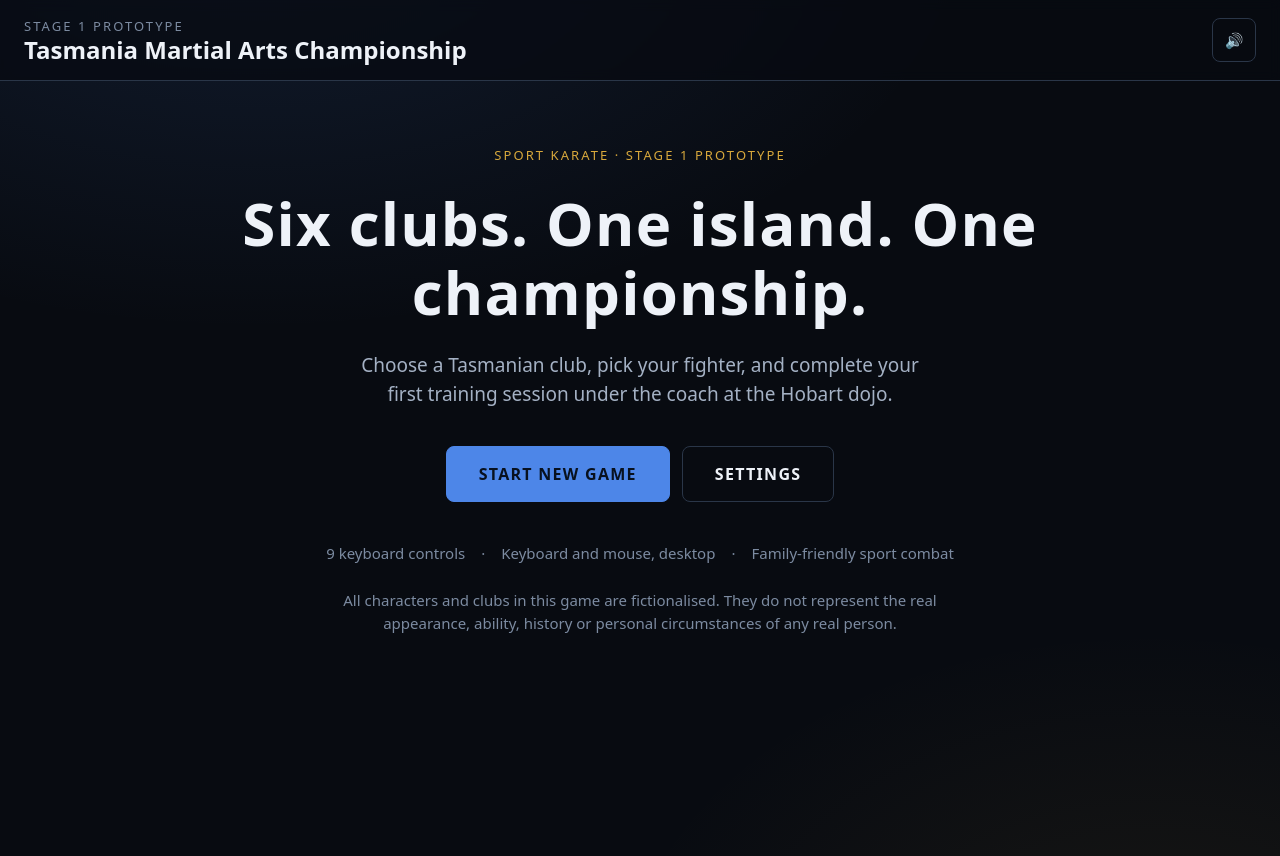
Test: map screen › marks the featured club and labels the others as Stage 2
The width and height of the screenshot is (1280, 856).
Click the button with test id "start-game". click: (558,474)
box: [446,446,670,502]
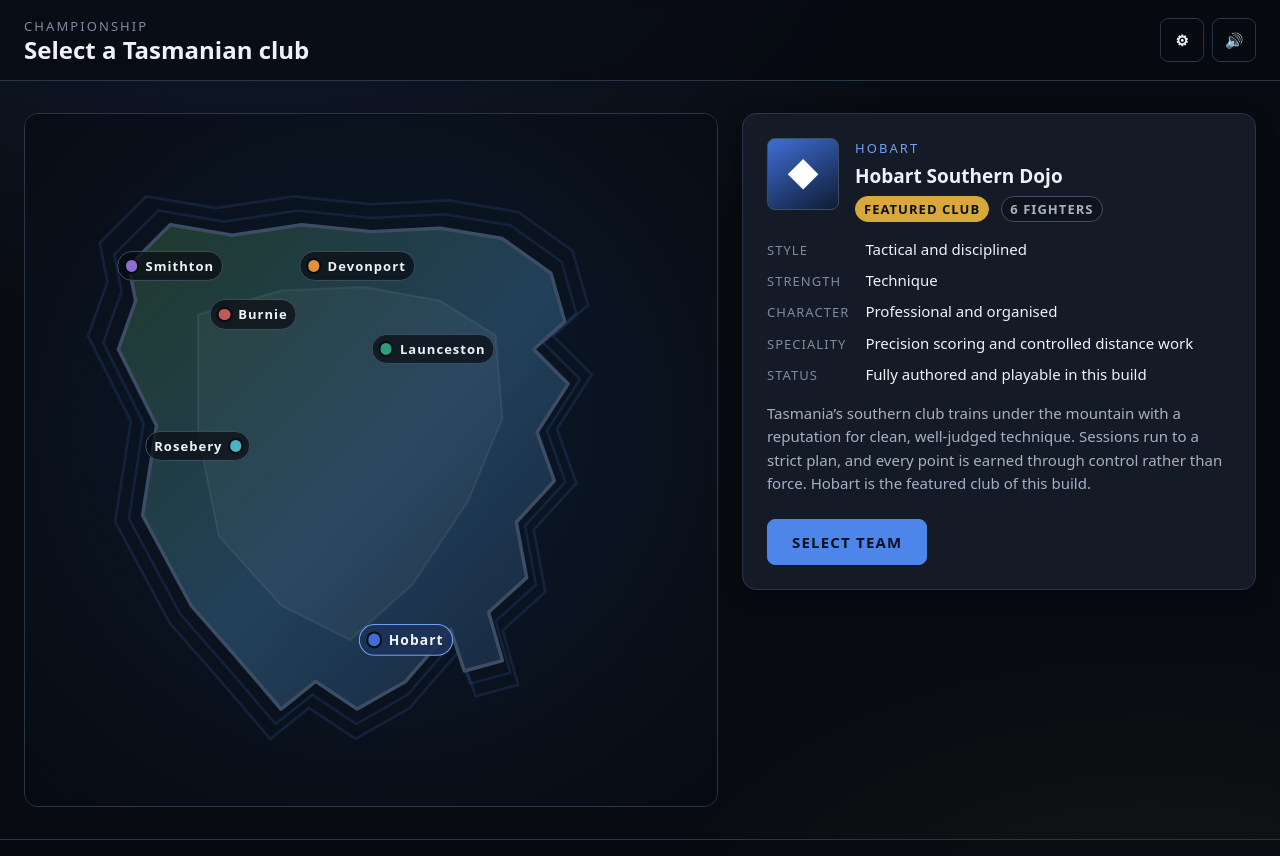
Result: the text "Featured club" is shown at [855,196,989,222]
Click the button with test id "map-marker-smithton". click: (170,266)
box: [117,251,223,281]
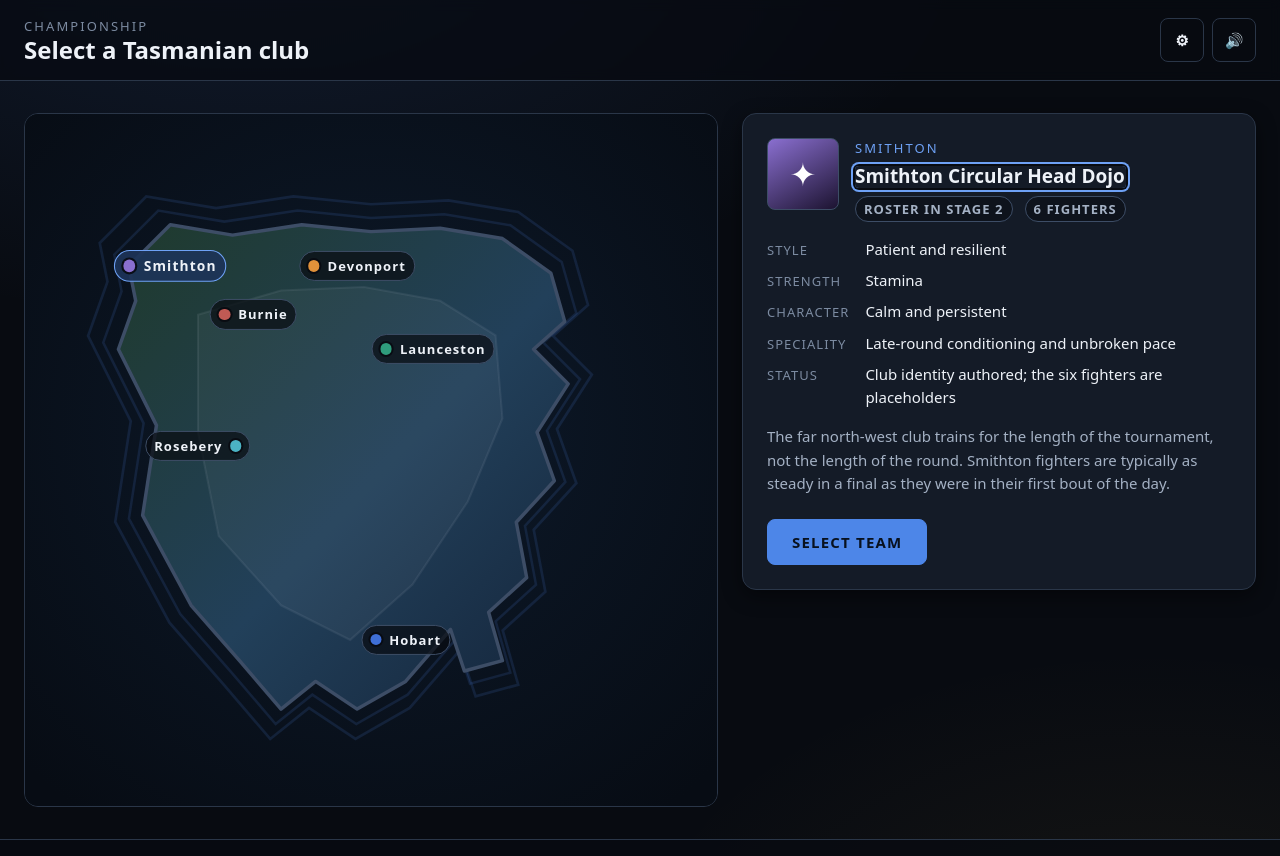
Result: the text "Roster in Stage 2" is shown at [855,196,1012,222]
